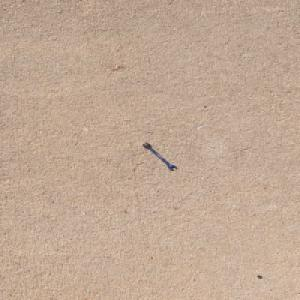Wrench: (142, 142, 178, 170)
